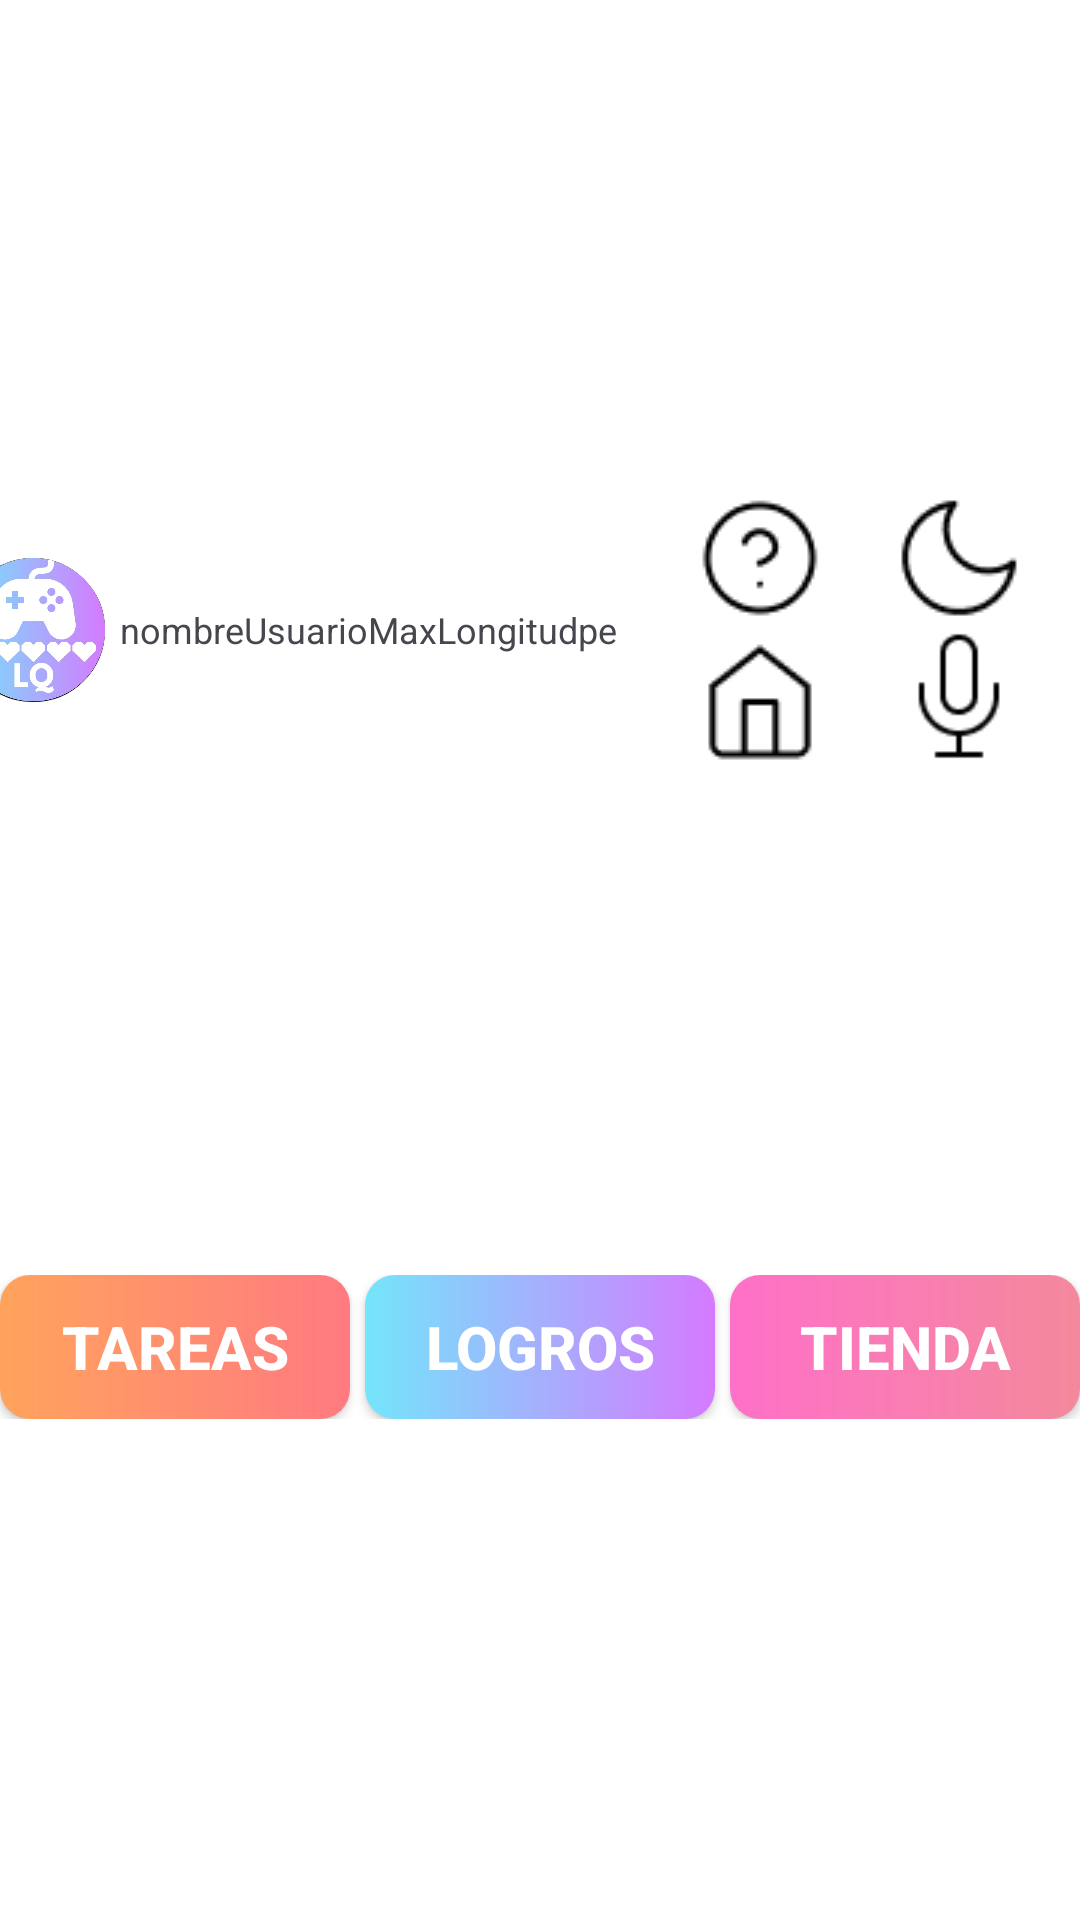

Icon bounding boxes for this 1080*1920 phone screenshot, format Rect(x1, y1, x2, y2):
ayuda: Rect(702, 500, 818, 616)
cambiar modo: Rect(901, 500, 1017, 616)
Detectar voz: Rect(918, 634, 1000, 758)
Home: Rect(708, 644, 812, 760)
